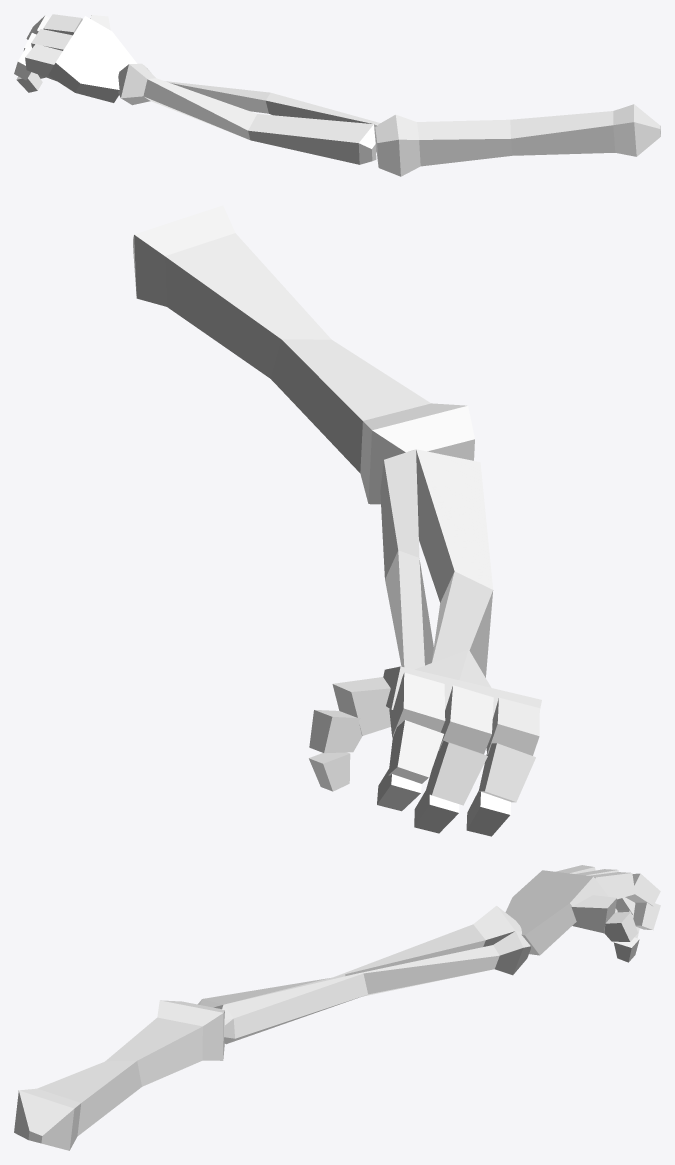
File: arm.fbx
3 views of the same model, one above another, from view 1: azimuth 30°, elevation 25°; view 2: azimuth 150°, elevation 25°; view 3: azimuth 270°, elevation 25° (orthographic). The views are drawn at different scales.
Parts seen in each view (by area): view 1: Skeleton_left_arm_B.003; view 2: Skeleton_left_arm_B.003; view 3: Skeleton_left_arm_B.003.
Boxes of the visible parts, x1,y1,x2,y2 form: Skeleton_left_arm_B.003: [14, 14, 660, 176]; Skeleton_left_arm_B.003: [133, 205, 541, 836]; Skeleton_left_arm_B.003: [14, 865, 660, 1150].
Size of the model in its own units: 19.23 by 2.99 by 20.42.
